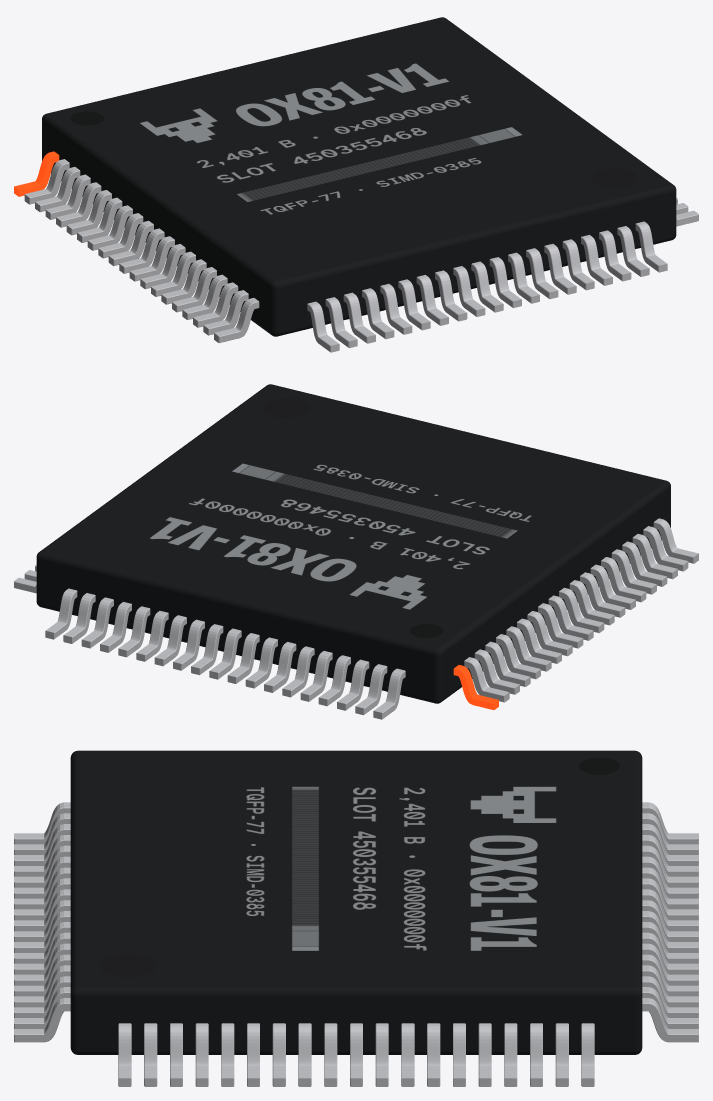
Rendered from ox81-chip-v1-largest.glb.
3 views of the same model, one above another, from view 1: azimuth 30°, elevation 25°; view 2: azimuth 150°, elevation 25°; view 3: azimuth 270°, elevation 25° (orthographic). The views are drawn at different scales.
Parts seen in each view (by area): view 1: body, object 3, marking, object 4, pin1; view 2: body, object 3, marking, pin1, object 4; view 3: body, object 3, marking, object 4.
Boxes of the visible parts, box(x1,y1,x2,y2) form: body: box(42, 17, 676, 336); object 3: box(24, 111, 698, 352); marking: box(140, 63, 522, 214); object 4: box(591, 168, 637, 187); pin1: box(14, 151, 59, 196); body: box(36, 384, 670, 703); object 3: box(14, 518, 698, 719); marking: box(150, 463, 531, 609); pin1: box(453, 665, 498, 709); object 4: box(262, 398, 308, 417); body: box(70, 750, 642, 1054); object 3: box(14, 757, 698, 1086); marking: box(246, 786, 556, 950); object 4: box(99, 953, 156, 977).
Size of the model in its own units: 12.84 by 1.51 by 12.84.
Materials: 5 (5 with a texture image).
